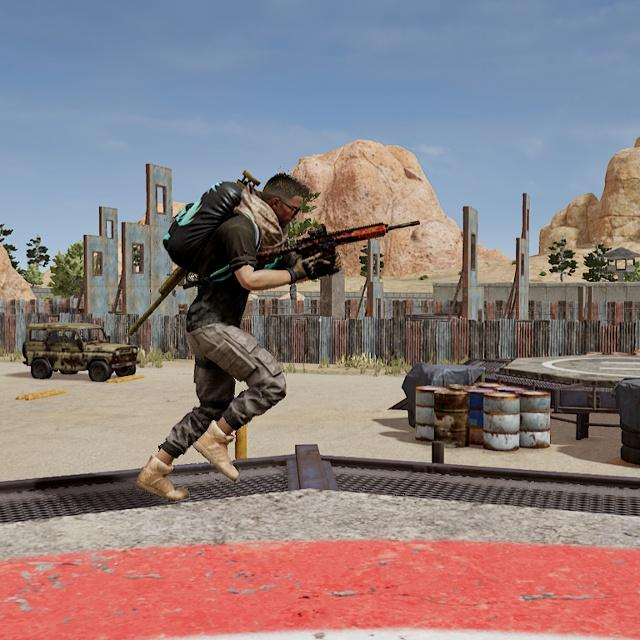head: (261, 170, 310, 229)
people: (133, 168, 316, 498)
